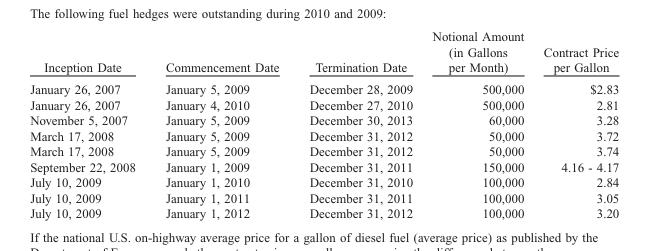table: (29, 29, 618, 220)
table column: (149, 29, 293, 220), (293, 29, 421, 220), (29, 29, 149, 220), (421, 29, 533, 220), (533, 29, 618, 220)
table column header: (29, 29, 618, 59)
table row: (29, 29, 618, 59), (29, 59, 618, 78), (29, 78, 618, 96), (29, 96, 618, 112), (29, 127, 618, 143), (29, 158, 618, 174), (29, 189, 618, 205), (29, 112, 618, 127), (29, 143, 618, 158), (29, 174, 618, 189), (29, 205, 618, 220)
